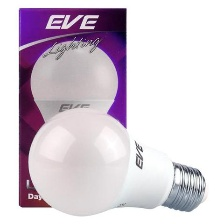carton: (12, 4, 130, 211)
light_bulb: (25, 106, 212, 218)
